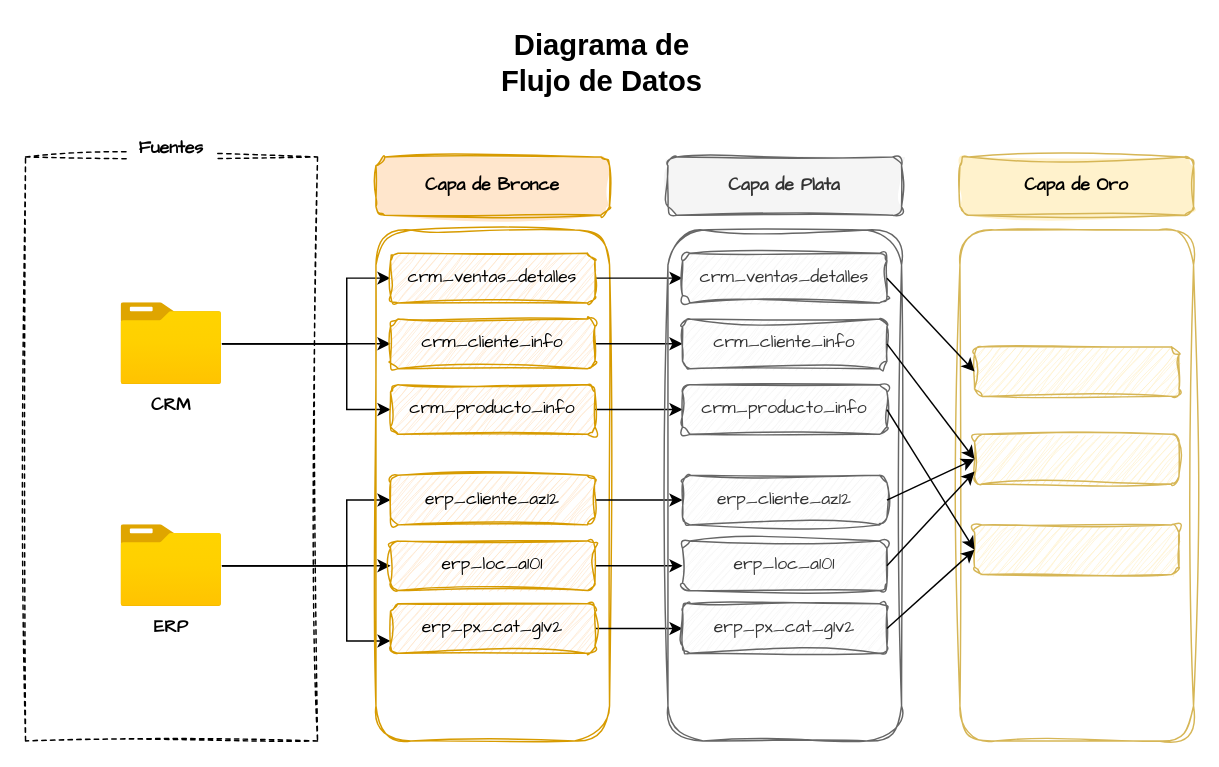
Some shapes in this 1219 by 767 pixel diagram are drawn without their labels. The centre of each missing label's shape, as x and y in pixels:
dim_clientes: (x=1076, y=458)
dim_productos: (x=1076, y=549)
fact_ventas: (x=1076, y=370)
